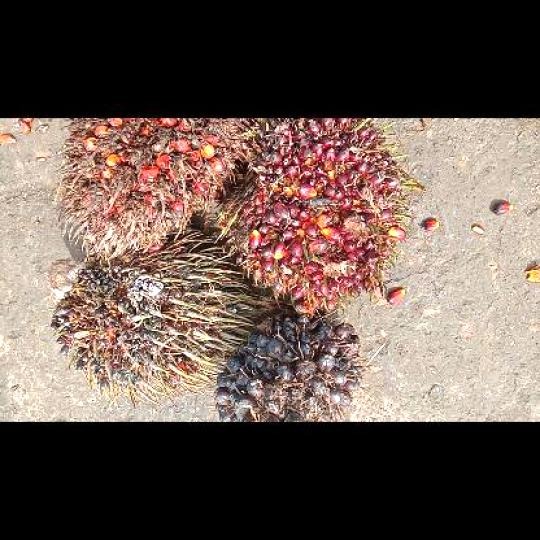masak: (221, 118, 420, 322)
terlalu masak: (56, 118, 245, 258)
